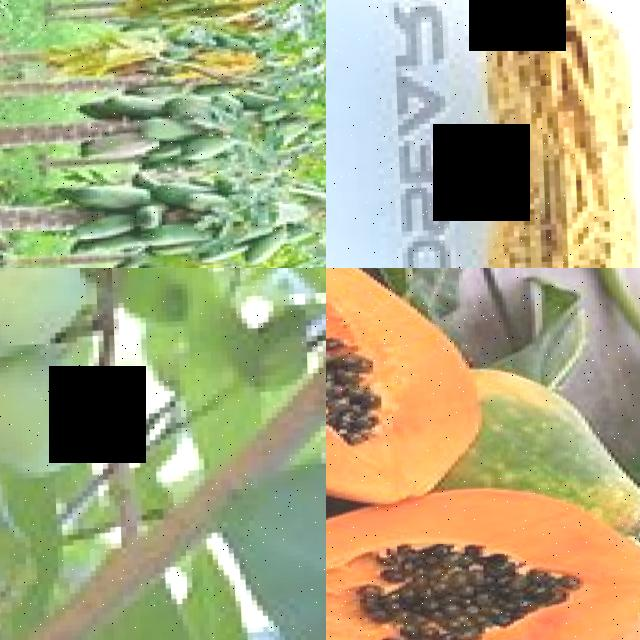pawpaw: (326, 489, 640, 640), (326, 268, 483, 514), (62, 180, 149, 210), (78, 136, 156, 161), (140, 225, 216, 247), (68, 215, 136, 239)
peanuts: (470, 0, 640, 268)
